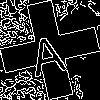A: (25, 25, 68, 77)
